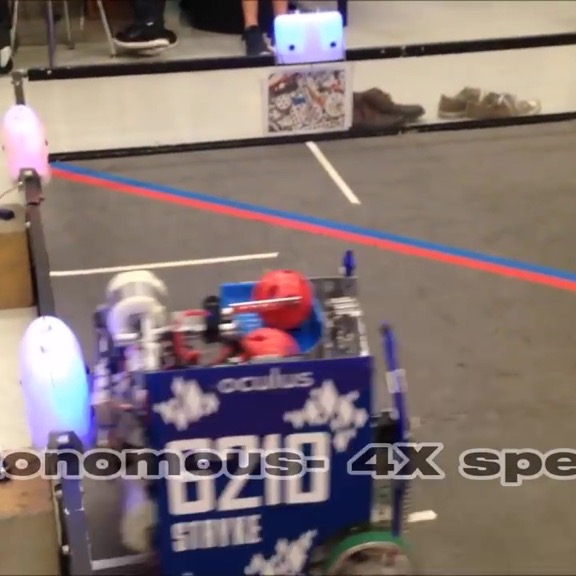ball: (250, 266, 317, 331), (235, 327, 307, 362)
robot: (78, 246, 420, 575)
